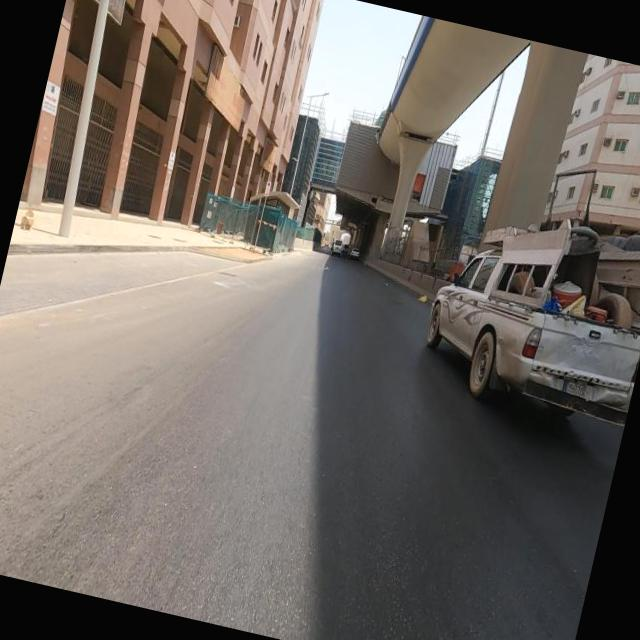debris: (149, 0, 308, 182), (382, 252, 453, 346)
